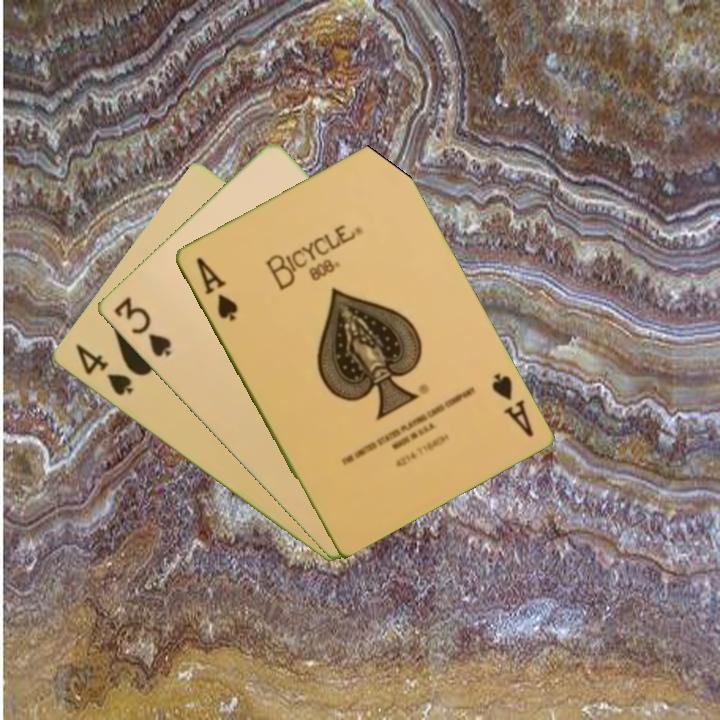3s: (110, 293, 174, 360)
4s: (71, 340, 136, 399)
As: (487, 368, 536, 440), (191, 253, 240, 324)
